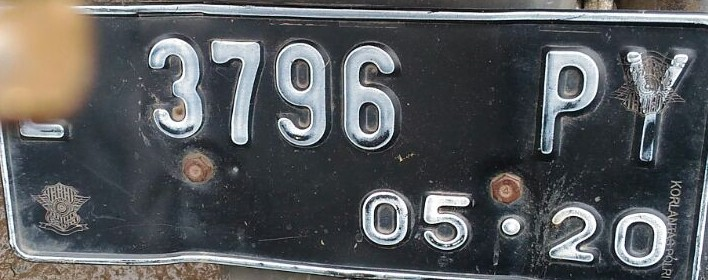plate: (3, 7, 705, 280)
